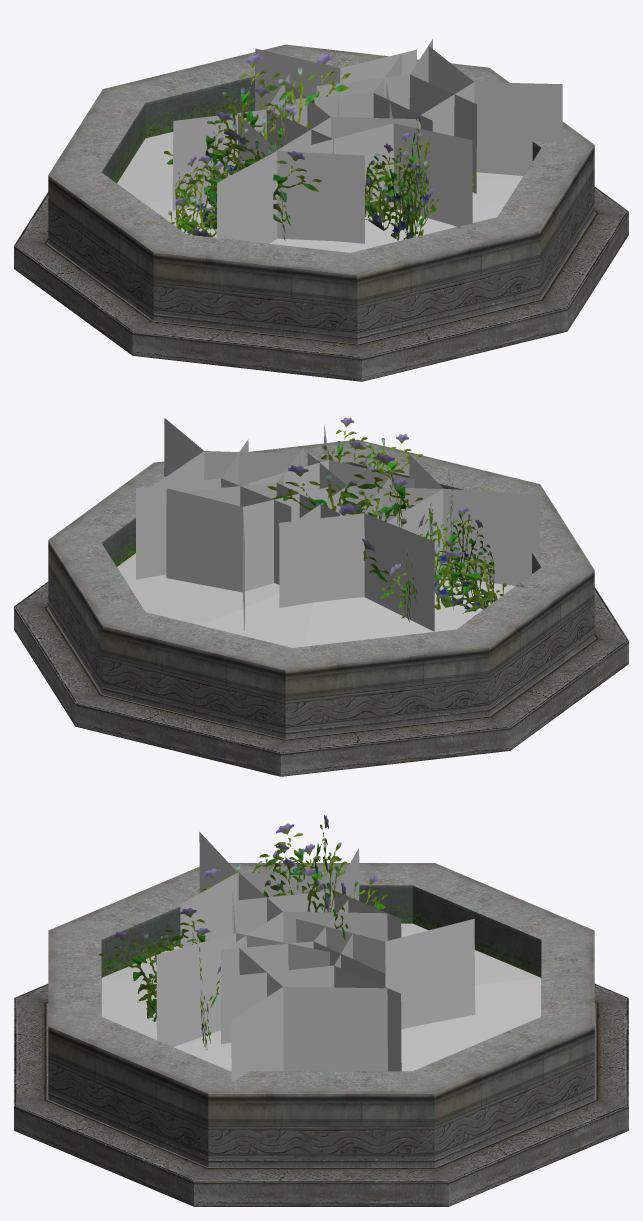
File: huachi3.FBX
3 views of the same model, one above another, from view 1: azimuth 30°, elevation 25°; view 2: azimuth 150°, elevation 25°; view 3: azimuth 270°, elevation 25° (orthographic). The views are drawn at different scales.
Parts seen in each view (by area): view 1: huachi3; view 2: huachi3; view 3: huachi3.
Boxes of the visible parts, x1=… form: huachi3: x1=14, y1=39, x2=628, y2=381; huachi3: x1=14, y1=417, x2=628, y2=776; huachi3: x1=14, y1=815, x2=628, y2=1206.
Bounding box in the file's own units: 1.71 × 0.7895 × 1.71.
